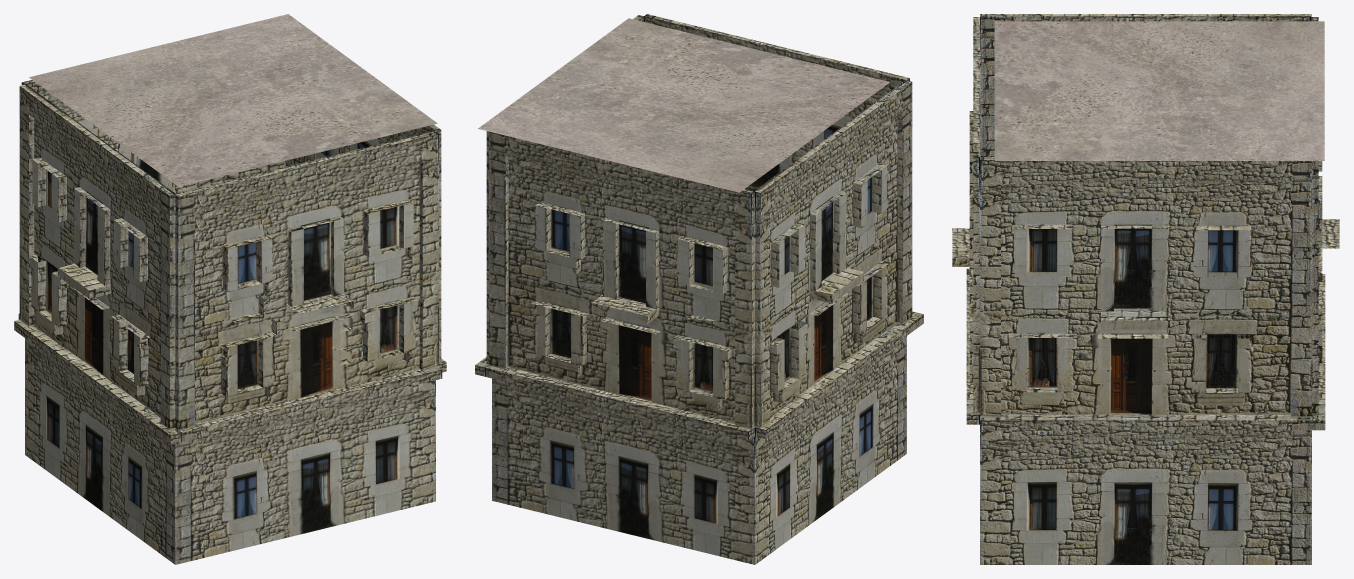
File: BagBuilding14_70.fbx
3 views of the same model, side by side, from view 1: azimuth 30°, elevation 25°; view 2: azimuth 150°, elevation 25°; view 3: azimuth 270°, elevation 25° (orthographic). The views are drawn at different scales.
Visible parts, largest first — view 1: main70, mainFlip70, roof70, mainA70, mainFlipA70; view 2: main70, mainFlip70, roof70, mainA70, mainFlipA70; view 3: mainFlip70, roof70, mainFlipA70, main70.
Part boxes in pixels (box(x1,y1,x2,y2)): main70: box(18, 80, 442, 564); mainFlip70: box(14, 84, 446, 564); roof70: box(29, 14, 437, 186); mainA70: box(26, 82, 434, 397); mainFlipA70: box(26, 84, 434, 374); main70: box(475, 14, 923, 564); mainFlip70: box(476, 15, 922, 564); roof70: box(478, 18, 889, 192); mainA70: box(551, 16, 905, 401); mainFlipA70: box(638, 16, 905, 382); mainFlip70: box(967, 14, 1325, 564); roof70: box(994, 21, 1324, 160); mainFlipA70: box(981, 16, 1310, 414); main70: box(952, 17, 1339, 430).
Bounding box in the file's own units: 19.62 × 22.86 × 19.62.
